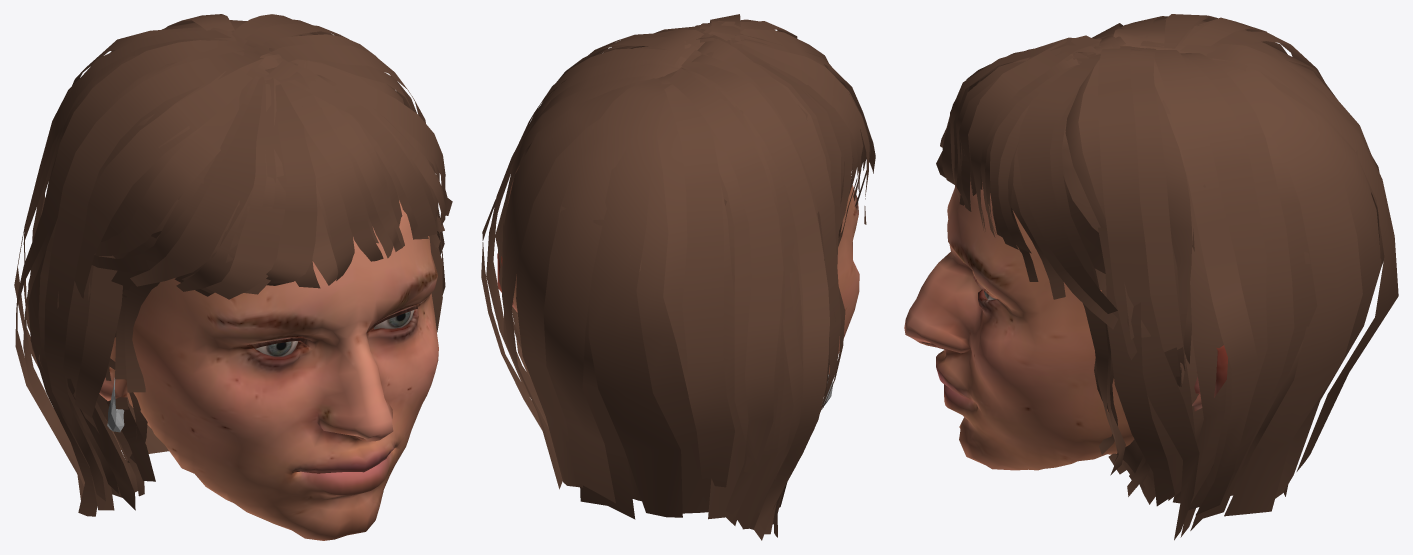
Rendered from camille.glb.
3 views of the same model, side by side, from view 1: azimuth 30°, elevation 25°; view 2: azimuth 150°, elevation 25°; view 3: azimuth 270°, elevation 25° (orthographic). The views are drawn at different scales.
Visible parts, largest first — view 1: Hair5.001, HG_Body.003, HG_Eyes.001; view 2: Hair5.001, HG_Body.003; view 3: Hair5.001, HG_Body.003.
Part boxes in pixels (x1,y1,x2,y2): Hair5.001: (14,14,452,516); HG_Body.003: (99,200,438,540); HG_Eyes.001: (255,310,414,356); Hair5.001: (481,14,875,540); HG_Body.003: (497,165,859,374); Hair5.001: (936,14,1398,540); HG_Body.003: (904,181,1227,470).
Bounding box in the file's own units: 0.234 × 0.2754 × 0.2724.
6 materials, 4 textured.
